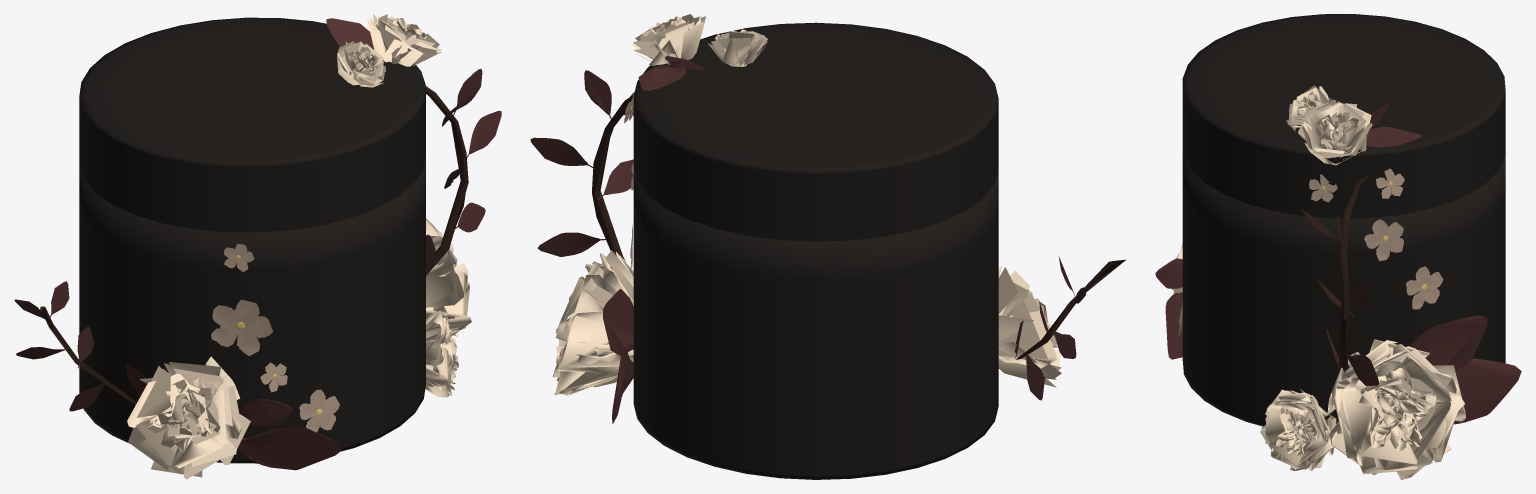
Rendered from 1-tier-black-roses-none.glb.
3 renders of one model, left to right at view 1: azimuth 30°, elevation 25°; view 2: azimuth 150°, elevation 25°; view 3: azimuth 270°, elevation 25°, orthographic. The views are drawn at different scales.
Visible parts, largest first — view 1: Cylinder.019, grid.039, Plane.083, Plane.074, Plane.075, grid.038, grid.041, grid.033, Sphere.050, grid.035, Sphere.054, Plane.073 (+3 smaller); view 2: Cylinder.019, grid.038, Plane.083, grid.039, grid.041, Plane.075, Plane.079, grid.035, Plane.086, Plane.080; view 3: Cylinder.019, grid.038, grid.033, grid.041, Plane.083, Plane.080, Plane.079, Sphere.057, Sphere.059, Plane.074, grid.035, Plane.086 (+3 smaller).
Part boxes in pixels (bbox=[...]): Cylinder.019: bbox=[79, 17, 425, 463]; grid.039: bbox=[127, 356, 250, 479]; Plane.083: bbox=[426, 69, 501, 275]; Plane.074: bbox=[237, 427, 341, 470]; Plane.075: bbox=[14, 281, 147, 411]; grid.038: bbox=[426, 218, 471, 337]; grid.041: bbox=[367, 14, 441, 66]; grid.033: bbox=[425, 310, 458, 397]; Sphere.050: bbox=[211, 299, 273, 355]; grid.035: bbox=[336, 41, 385, 87]; Sphere.054: bbox=[299, 389, 339, 432]; Plane.073: bbox=[239, 399, 292, 427]; Cylinder.019: bbox=[633, 22, 998, 479]; grid.038: bbox=[552, 250, 633, 396]; Plane.083: bbox=[530, 70, 634, 261]; grid.039: bbox=[998, 265, 1061, 387]; grid.041: bbox=[631, 14, 705, 65]; Plane.075: bbox=[1014, 256, 1125, 400]; Plane.079: bbox=[603, 289, 633, 355]; grid.035: bbox=[707, 29, 768, 66]; Plane.086: bbox=[638, 65, 686, 90]; Plane.080: bbox=[612, 346, 633, 423]; Cylinder.019: bbox=[1182, 14, 1505, 426]; grid.038: bbox=[1327, 339, 1465, 479]; grid.033: bbox=[1260, 389, 1336, 470]; grid.041: bbox=[1297, 99, 1372, 165]; Plane.083: bbox=[1301, 175, 1379, 385]; Plane.080: bbox=[1454, 358, 1521, 424]; Plane.079: bbox=[1409, 315, 1487, 371]; Sphere.057: bbox=[1364, 219, 1403, 260]; Sphere.059: bbox=[1406, 266, 1443, 309]; Plane.074: bbox=[1165, 292, 1182, 359]; grid.035: bbox=[1286, 85, 1333, 131]; Plane.086: bbox=[1366, 127, 1422, 147].
Bounding box in the file's own units: 4.49 × 3.04 × 2.9.
